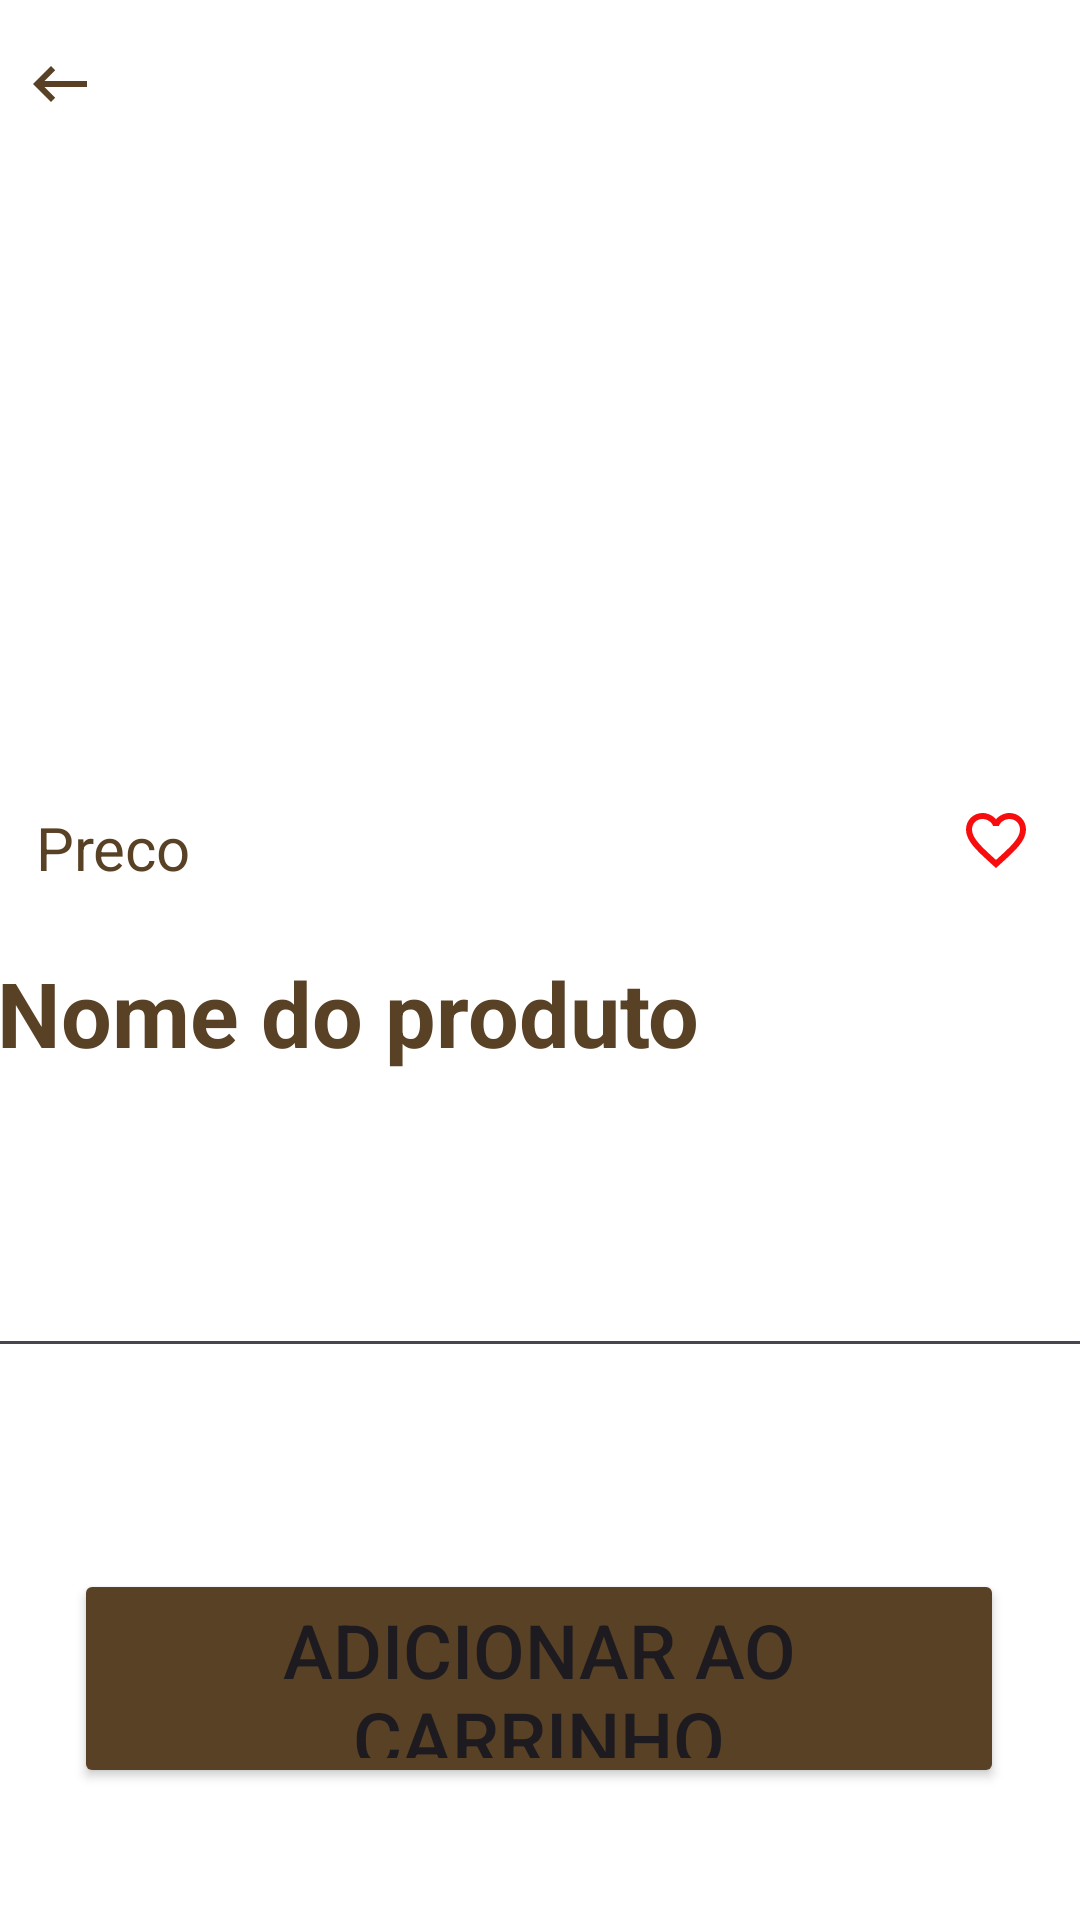

Where to tap for icons on this 1080w x 1920h app screen, as [x,y]:
favorite border: [996,840]
keyboard backspace: [60,84]
